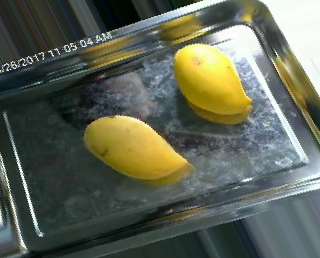Mango: (84, 115, 184, 178), (173, 42, 250, 115)
